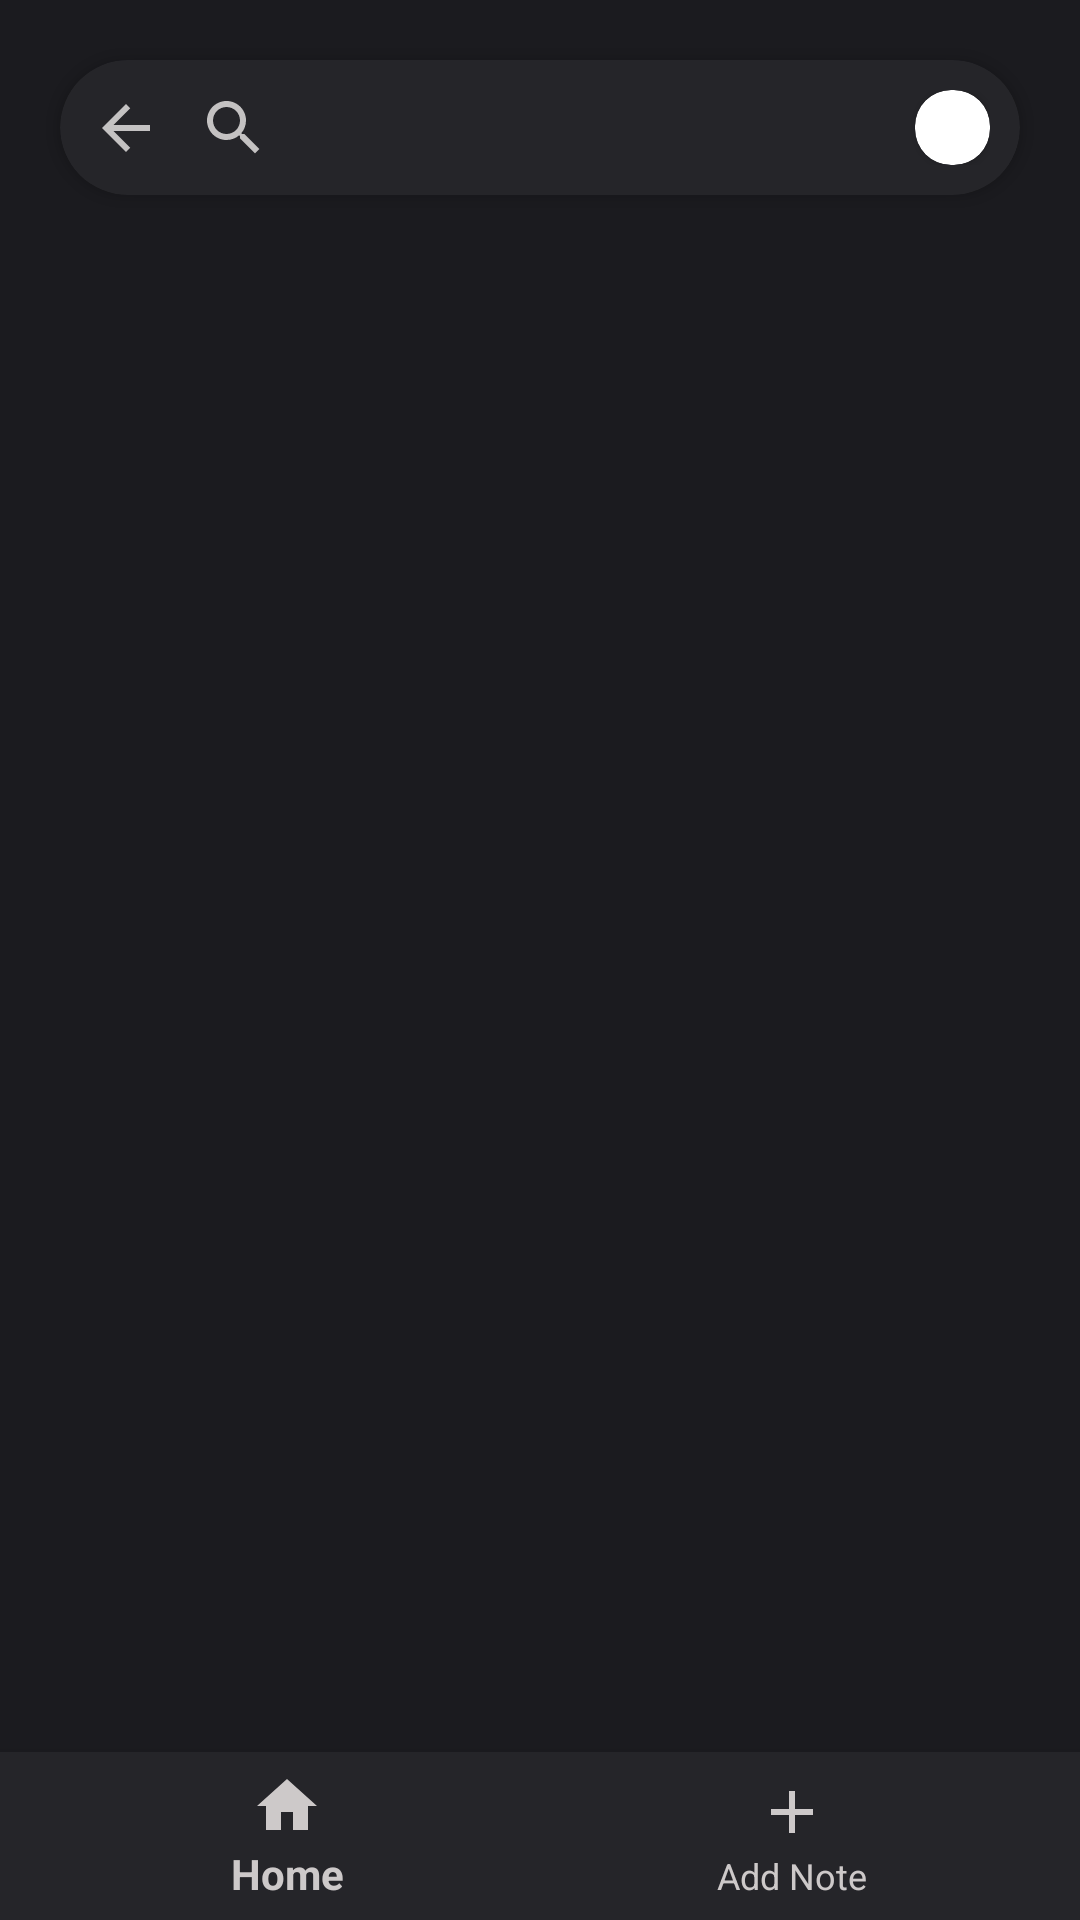

Named icons in this screenshot (1080 × 1920) and their bounding boxes, region(x1, y1, x2, y2):
arrow back: region(102, 104, 150, 152)
